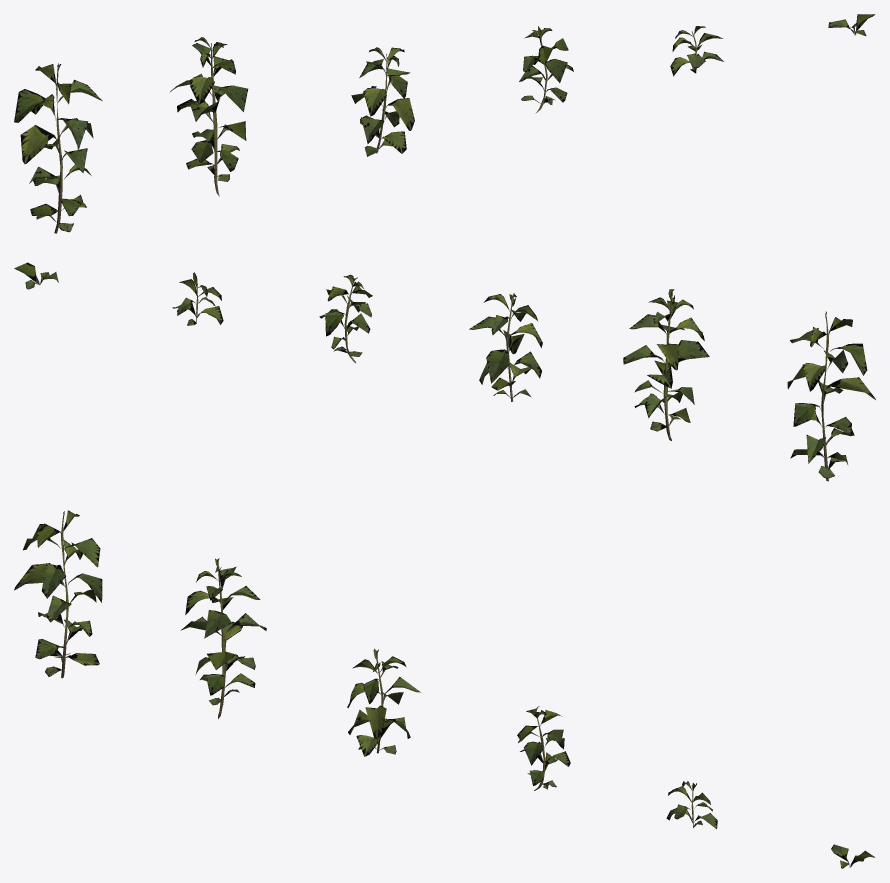
Rendered from nettle_plant.glb.
3 renders of one model, top to bottom at view 1: azimuth 30°, elevation 25°; view 2: azimuth 150°, elevation 25°; view 3: azimuth 330°, elevation 25°, orthographic.
Parts seen in each view (by area): view 1: nettle_plant_medium_a_LOD0; view 2: nettle_plant_medium_a_LOD0; view 3: nettle_plant_medium_a_LOD0.
Part boxes in pixels (<box>): nettle_plant_medium_a_LOD0: <box>14,14,875,233</box>; nettle_plant_medium_a_LOD0: <box>14,262,875,481</box>; nettle_plant_medium_a_LOD0: <box>14,510,874,868</box>.
Bounding box in the file's own units: 1.08 × 0.2049 × 0.0947.
1 material, 1 textured.
